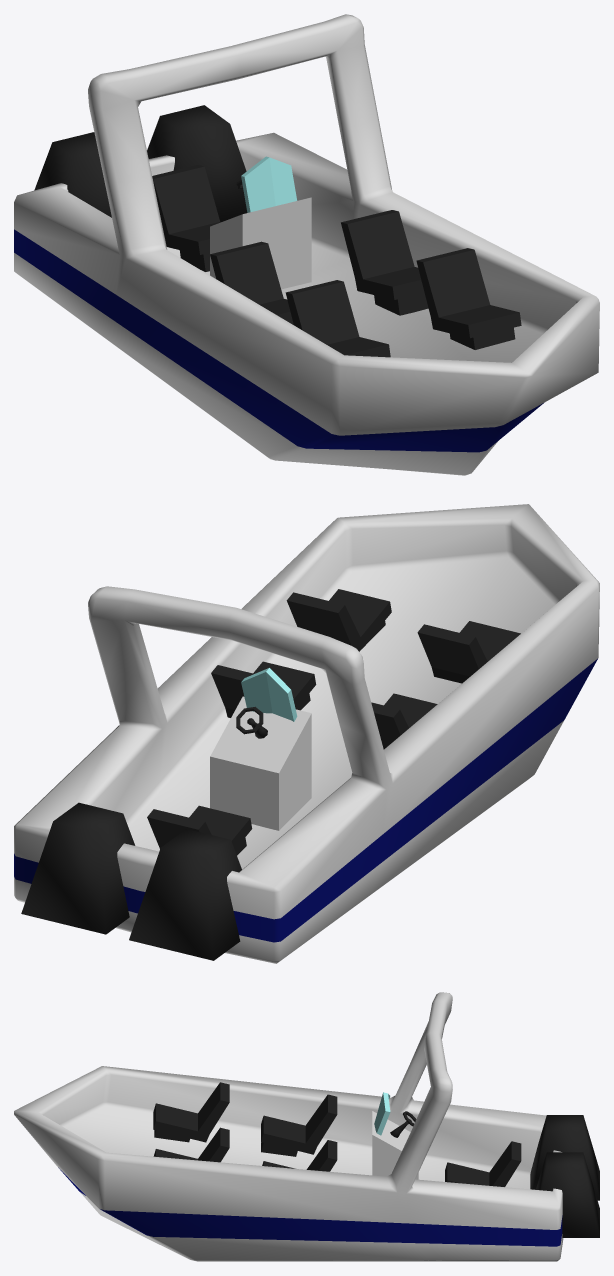
File: SpeedBoat.fbx
The picture shows the model from 3 angles, top to bottom: view 1: azimuth 30°, elevation 25°; view 2: azimuth 150°, elevation 25°; view 3: azimuth 270°, elevation 25°; orthographic projection. The views are drawn at different scales.
Parts seen in each view (by area): view 1: Cube.064; view 2: Cube.064; view 3: Cube.064.
Part boxes in pixels (x1=…): Cube.064: x1=14, y1=14, x2=599, y2=475; Cube.064: x1=14, y1=504, x2=599, y2=963; Cube.064: x1=14, y1=992, x2=599, y2=1261.
Bounding box in the file's own units: 378 × 347 × 1000.
